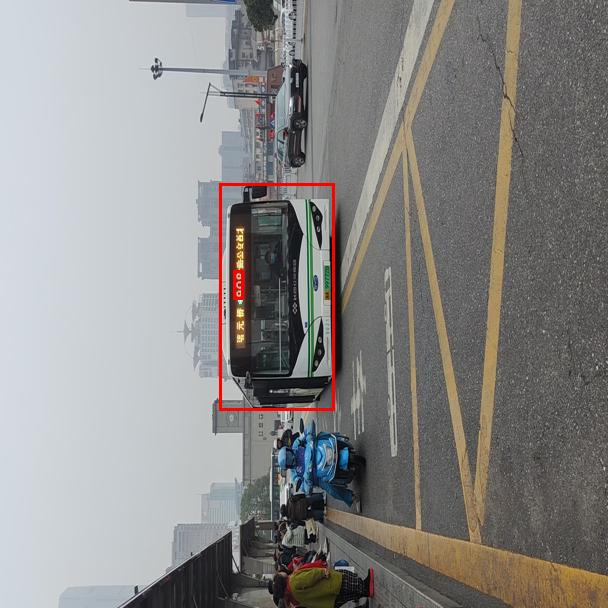bus: (219, 183, 334, 410)
screen: (233, 270, 243, 299)
